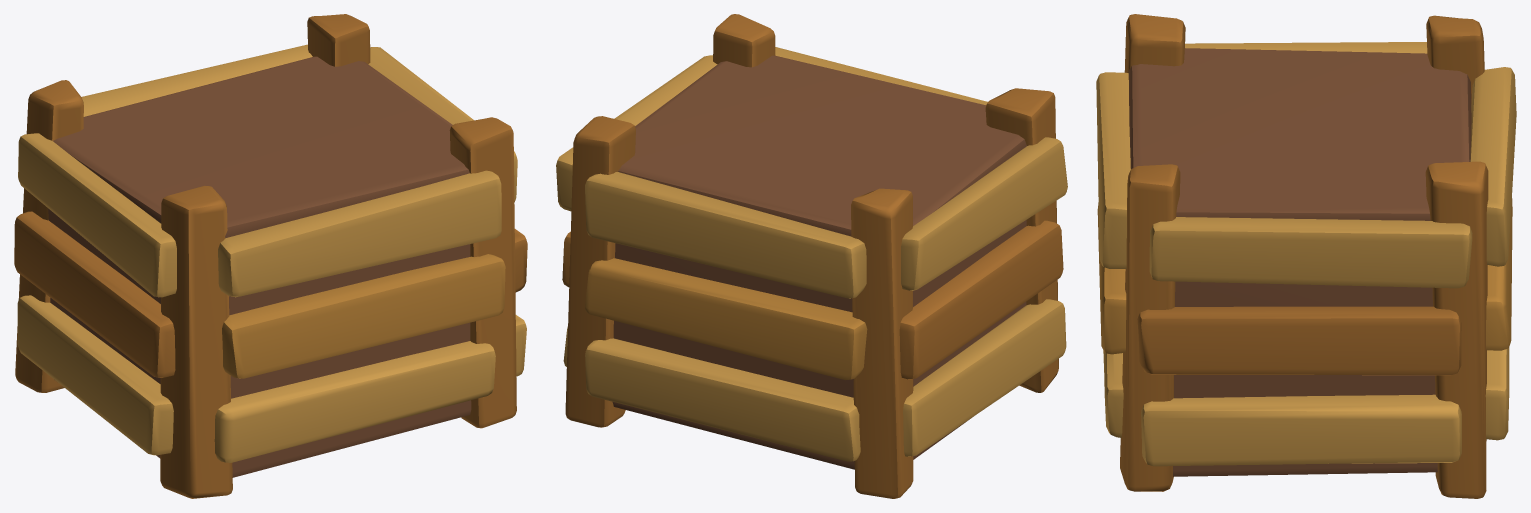
Rendered from prop_crate.glb.
The picture shows the model from 3 angles, left to right: view 1: azimuth 30°, elevation 25°; view 2: azimuth 150°, elevation 25°; view 3: azimuth 270°, elevation 25°; orthographic projection. The views are drawn at different scales.
Parts seen in each view (by area): view 1: crate_core, crate_slat_1_-1, crate_slat_2_-1, crate_slat_0_-1, crate_post_-0.31_-0.27, crate_slat_side_1_-1, crate_slat_side_0_-1, crate_slat_side_2_-1, crate_post_0.31_-0.27, crate_post_-0.31_0.27, crate_slat_2_1, crate_post_0.31_0.27 (+3 smaller); view 2: crate_core, crate_slat_2_1, crate_slat_1_1, crate_slat_0_1, crate_post_-0.31_0.27, crate_slat_side_1_-1, crate_slat_side_0_-1, crate_slat_side_2_-1, crate_post_0.31_0.27, crate_post_-0.31_-0.27, crate_slat_side_2_1, crate_post_0.31_-0.27 (+1 smaller); view 3: crate_core, crate_slat_side_1_1, crate_slat_side_0_1, crate_slat_side_2_1, crate_post_0.31_0.27, crate_post_0.31_-0.27, crate_slat_2_1, crate_slat_2_-1, crate_post_-0.31_0.27, crate_post_-0.31_-0.27, crate_slat_1_1, crate_slat_1_-1 (+3 smaller).
Part boxes in pixels (box(x1,y1,x2,y2)): crate_core: box(48, 56, 471, 477); crate_slat_1_-1: box(222, 254, 505, 378); crate_slat_2_-1: box(218, 170, 501, 297); crate_slat_0_-1: box(214, 341, 495, 462); crate_post_-0.31_-0.27: box(160, 185, 232, 498); crate_slat_side_1_-1: box(14, 211, 175, 377); crate_slat_side_0_-1: box(17, 295, 173, 455); crate_slat_side_2_-1: box(18, 133, 176, 297); crate_post_0.31_-0.27: box(449, 117, 516, 428); crate_post_-0.31_0.27: box(15, 80, 83, 392); crate_slat_2_1: box(81, 44, 312, 116); crate_post_0.31_0.27: box(307, 14, 370, 66); crate_core: box(612, 55, 1026, 469); crate_slat_2_1: box(585, 172, 866, 298); crate_slat_1_1: box(585, 258, 867, 380); crate_slat_0_1: box(585, 338, 860, 461); crate_post_-0.31_0.27: box(851, 188, 913, 498); crate_slat_side_1_-1: box(899, 220, 1063, 379); crate_slat_side_0_-1: box(903, 299, 1066, 456); crate_slat_side_2_-1: box(901, 137, 1067, 290); crate_post_0.31_0.27: box(565, 116, 635, 427); crate_post_-0.31_-0.27: box(985, 88, 1058, 392); crate_slat_side_2_1: box(556, 55, 717, 211); crate_post_0.31_-0.27: box(713, 14, 775, 67); crate_core: box(1128, 48, 1471, 476); crate_slat_side_1_1: box(1137, 306, 1461, 375); crate_slat_side_0_1: box(1141, 394, 1461, 466); crate_slat_side_2_1: box(1149, 217, 1472, 288); crate_post_0.31_0.27: box(1425, 161, 1488, 498); crate_post_0.31_-0.27: box(1120, 164, 1180, 491); crate_slat_2_1: box(1470, 67, 1516, 266); crate_slat_2_-1: box(1096, 72, 1130, 268); crate_post_-0.31_0.27: box(1426, 15, 1484, 103); crate_post_-0.31_-0.27: box(1124, 14, 1185, 72); crate_slat_1_1: box(1486, 198, 1512, 350); crate_slat_1_-1: box(1097, 202, 1126, 354).
Bounding box in the file's own units: 0.8141 × 0.614 × 0.7349.
